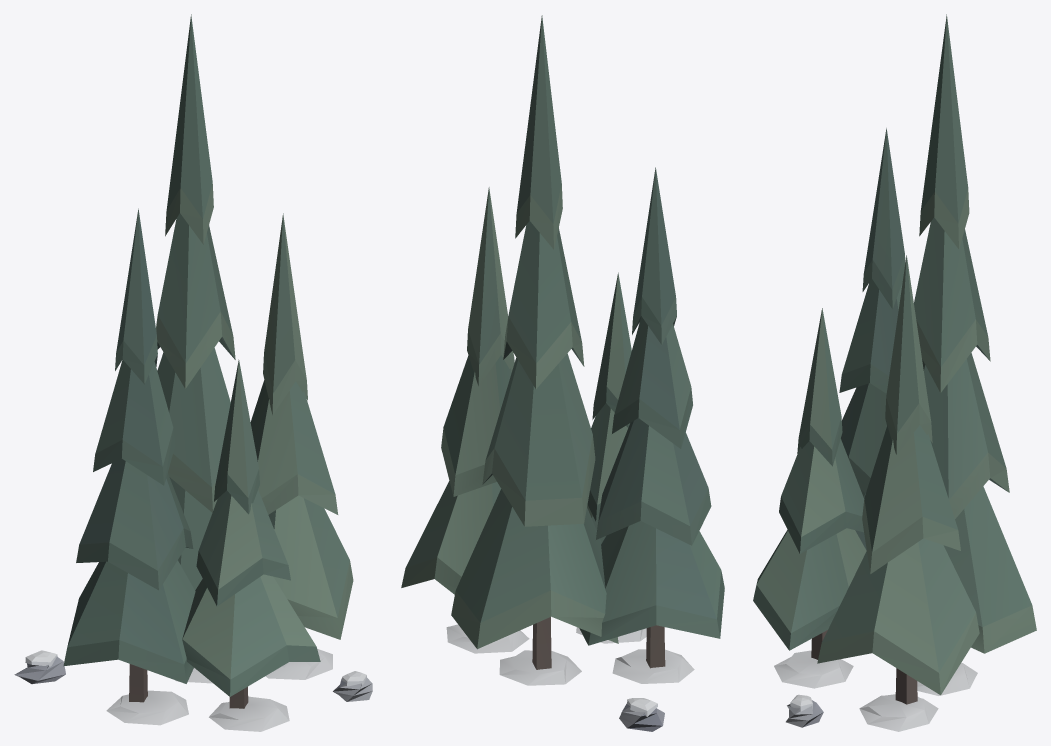
Rendered from pines.lod1.glb.
3 renders of one model, left to right at view 1: azimuth 30°, elevation 25°; view 2: azimuth 150°, elevation 25°; view 3: azimuth 270°, elevation 25°, orthographic.
Size of the model in its own units: 4.28 by 9.06 by 3.53.
